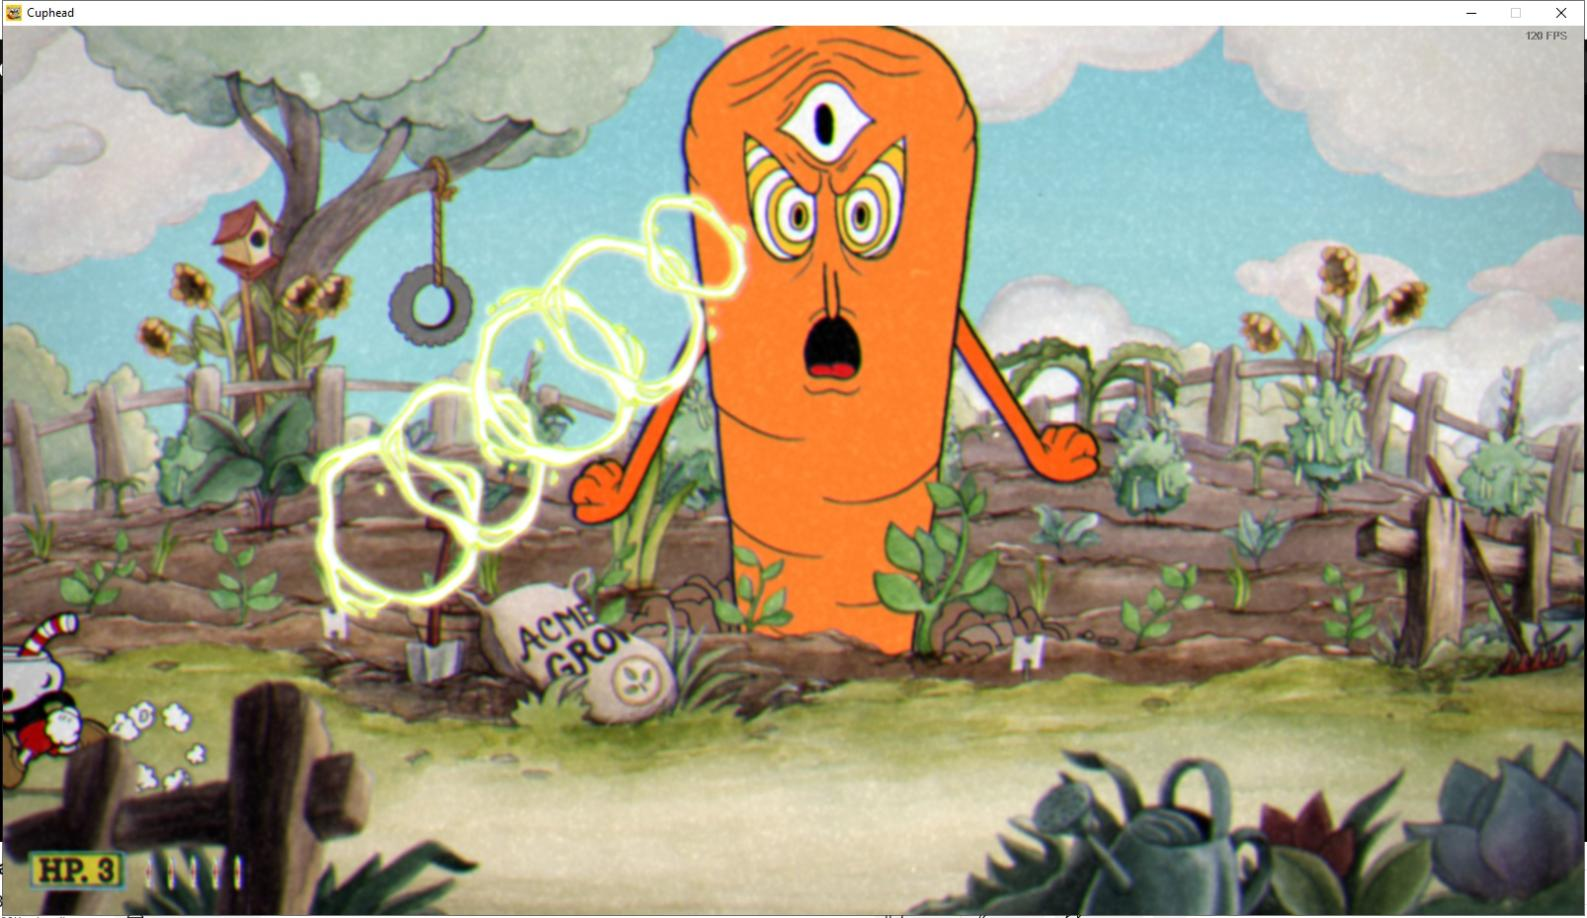hp3: (88, 853, 123, 890)
player: (2, 603, 132, 804)
ring: (456, 274, 648, 483), (299, 424, 493, 620), (373, 365, 553, 557), (533, 226, 713, 409), (628, 188, 760, 308)
